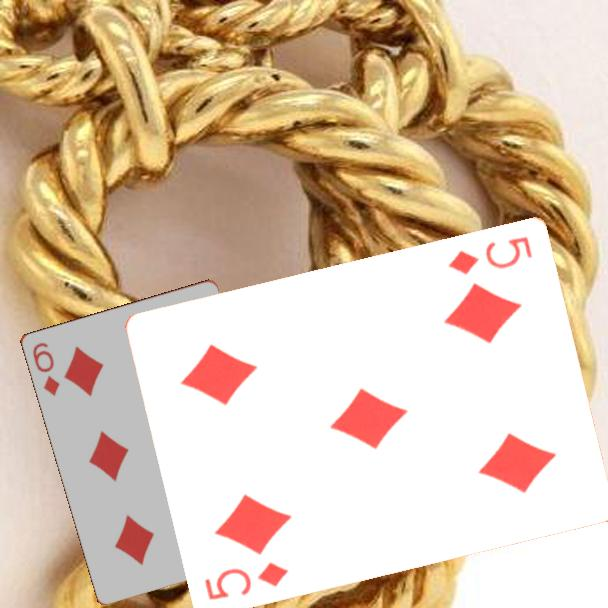d05: (200, 559, 291, 604), (444, 233, 535, 278)
d06: (29, 339, 62, 399)
